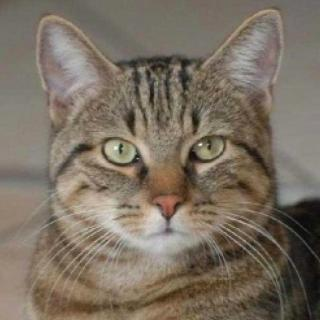cat: (32, 5, 289, 264)
nose: (144, 174, 191, 224)
